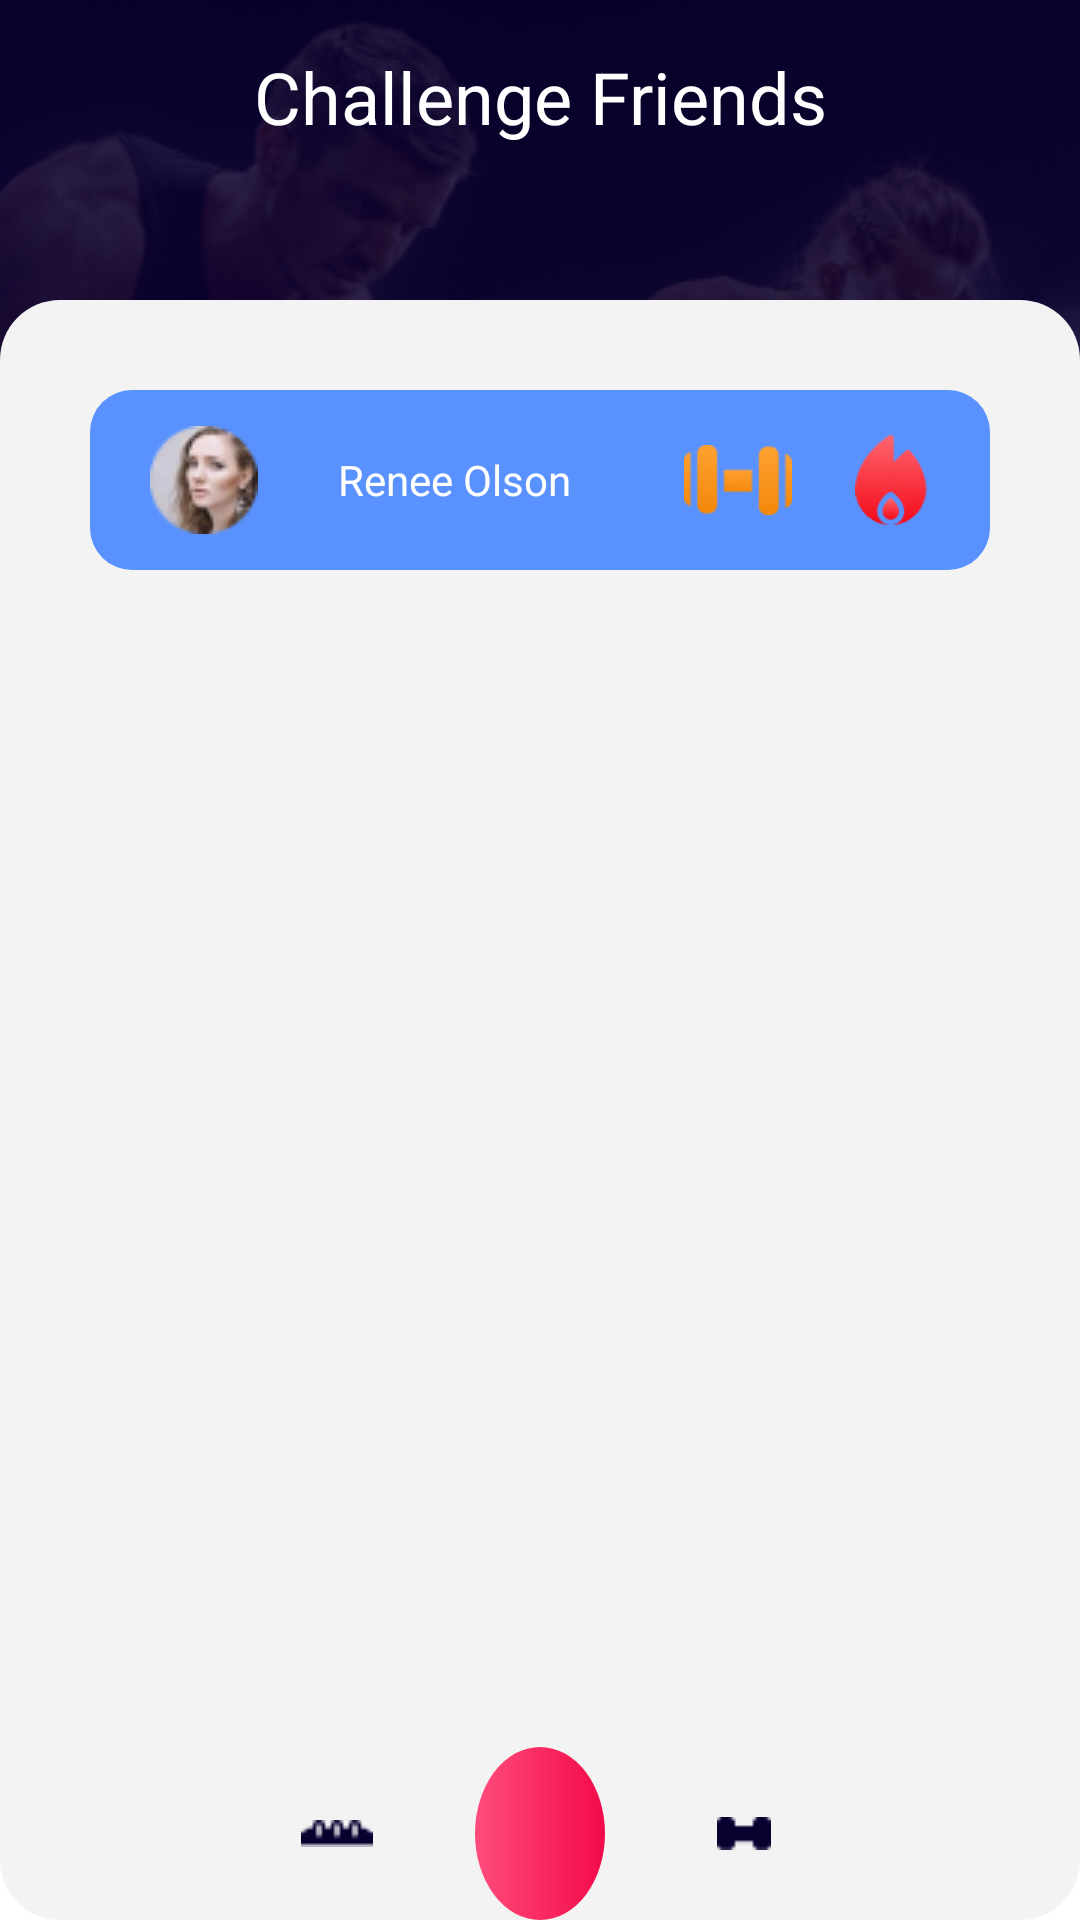

Locate icon controls on the screen. Image size 1080×1920, boxes as (x1, y1, x2, y2).
burn: (855, 435, 927, 525)
weights: (684, 445, 792, 515)
